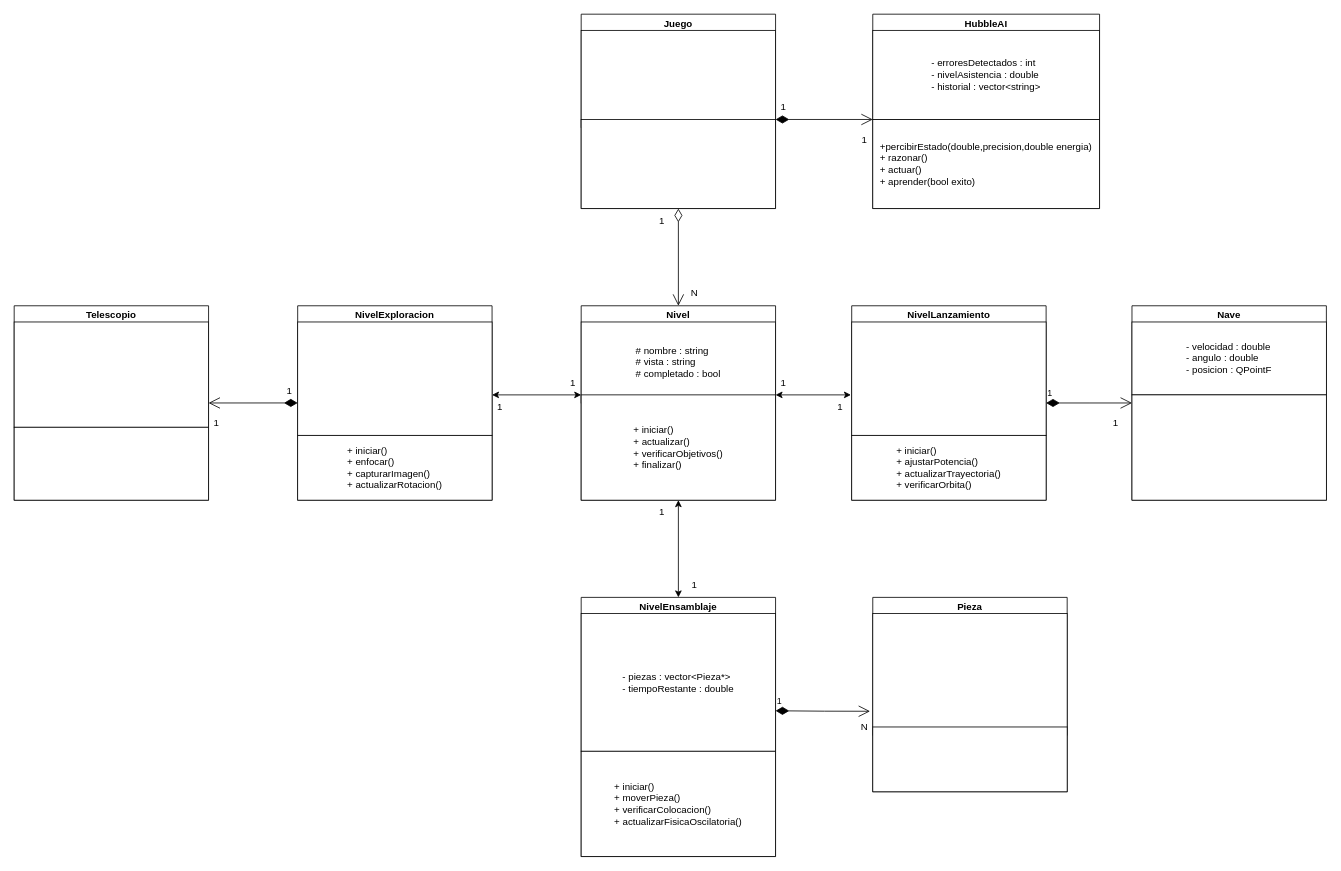
The diagram is 1341 pixels wide and 871 high, and some of its shapes have lost their labels. The shapes that lost their labels are listed below. From the top down, each one's centre as x and y in pixels, then its label:
(x=678, y=79): - nivelActual : int - niveles : vector<Nivel*> - agenteAI : HubbleAI*
(x=678, y=164): + iniciar() + cargarNiveles() + ejecutarNivel() + finalizar()
(x=111, y=374): - energia : double - anguloActual : double - precision : double
(x=394, y=378): - telescopio : Telescopio* - imagenesCapturadas : vector<Imagen*>
(x=948, y=378): - nave : Nave* - temporizador : QTimer* - tiempoCombustible : double
(x=111, y=463): + ajustarOrientacion(double) + estabilizar() + obtenerEstado()
(x=1228, y=447): + aplicarImpulso() + calcularTrayectoria() + verificarEstabilidad()
(x=969, y=674): - nombre : string - posicion : QPointF - ensamblada : bool
(x=969, y=759): + mover() + colocar() + verificarPosicion()
